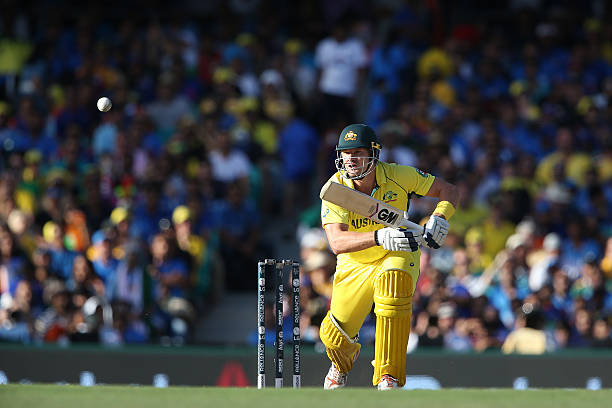bottom left: (324, 177, 338, 191)
bottom right: (315, 190, 330, 205)
top left: (397, 208, 411, 222)
top right: (385, 216, 400, 231)
